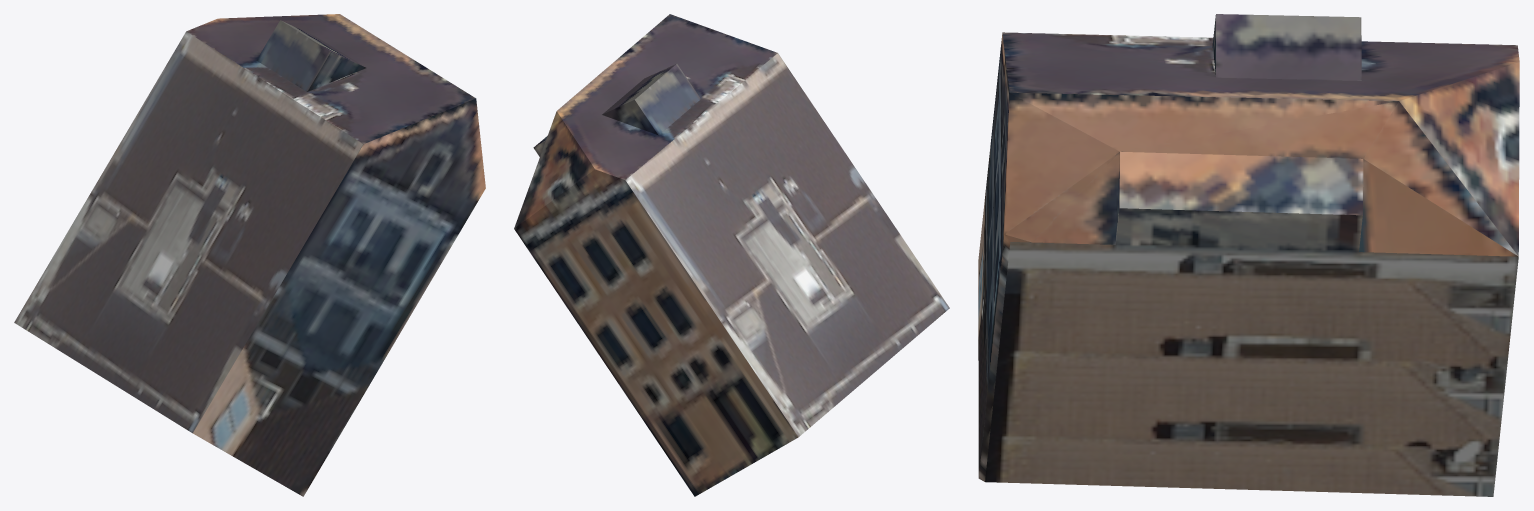
3 views of the same model, side by side, from view 1: azimuth 30°, elevation 25°; view 2: azimuth 150°, elevation 25°; view 3: azimuth 270°, elevation 25° (orthographic). The views are drawn at different scales.
Parts seen in each view (by area): view 1: BAG_0599100000688730 (×4); view 2: BAG_0599100000688730 (×6); view 3: BAG_0599100000688730 (×5).
Boxes of the visible parts, x1=… form: BAG_0599100000688730 (×4): x1=14, y1=14, x2=485, y2=496; BAG_0599100000688730 (×6): x1=514, y1=14, x2=949, y2=496; BAG_0599100000688730 (×5): x1=978, y1=14, x2=1519, y2=496.
Size of the model in its own units: 13.86 by 14.87 by 12.92.
5 materials, 5 textured.
